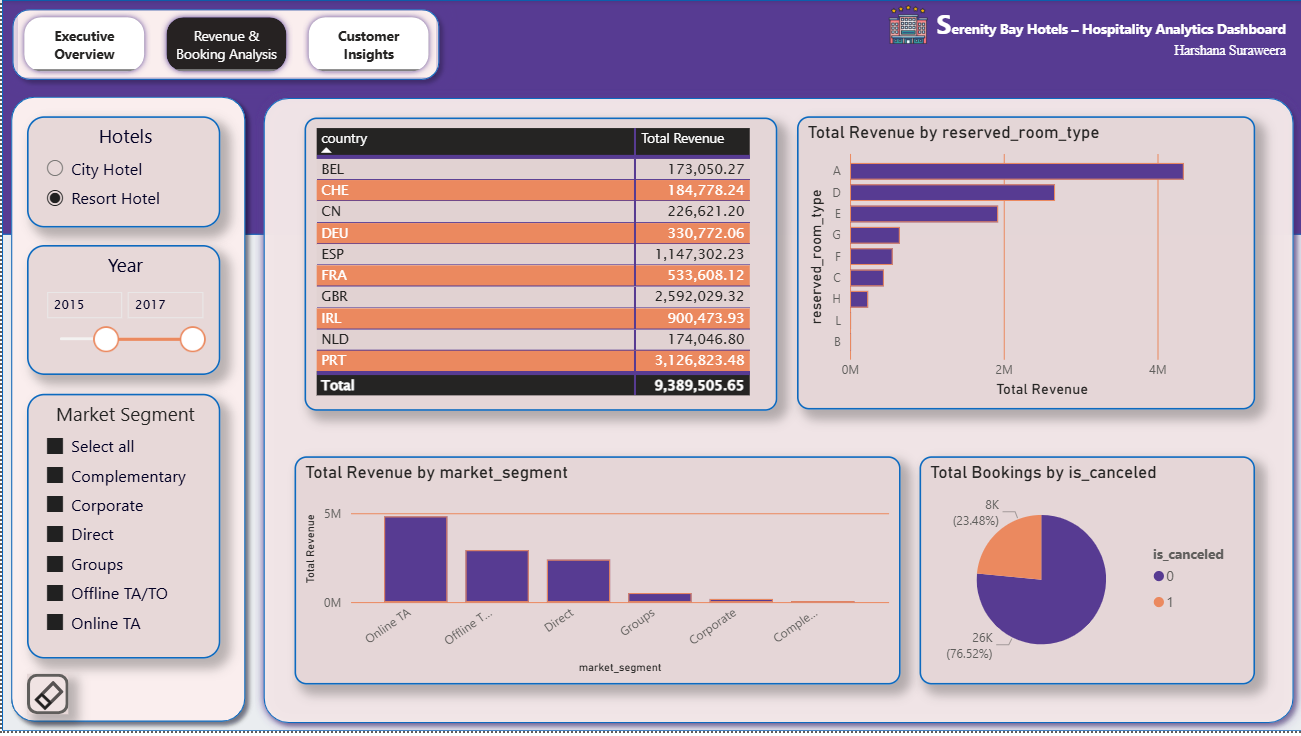

Layout of this report page (visuals, bound fields, positions):
{"tool":"powerbi","page":{"name":"Revenue & Booking Analysis","canvas":[1280,720],"ordinal":1},"visuals":[{"type":"shape","box":[0,220.5,1280,499.5],"z":0},{"type":"shape","box":[0,0,1280.3,231.1],"z":1000},{"type":"shape","box":[1.4,0,438.3,87.7],"z":2000},{"type":"shape","box":[248.2,86.8,1032.1,633.4],"z":3000},{"type":"columnChart","fields":{"Category":["hotel_bookings_cleaned.market_segment"],"Y":["mesures.Total Revenue"]},"box":[288.6,448.8,596.7,225],"z":4000},{"type":"clusteredBarChart","fields":{"Category":["hotel_bookings_cleaned.reserved_room_type"],"Y":["mesures.Total Revenue"]},"box":[782.6,114.9,451.2,288.6],"z":5000},{"type":"tableEx","fields":{"Values":["hotel_bookings_cleaned.country","mesures.Total Revenue"]},"box":[298.4,116.2,465.9,288.6],"z":6000},{"type":"pieChart","fields":{"Category":["hotel_bookings_cleaned.is_canceled"],"Y":["mesures.Total Bookings"]},"box":[903.7,448.8,330.2,225],"z":7000},{"type":"shape","box":[0,86.6,248.5,633.4],"z":8000},{"type":"slicer","title":"Hotels","fields":{"Values":["hotel_bookings_cleaned.hotel"]},"box":[24.1,114.6,190.6,109.8],"z":9000},{"type":"slicer","title":"Year","fields":{"Values":["DateTable.Year"]},"box":[24.1,241.3,190.6,127.9],"z":10000},{"type":"slicer","title":"Market Segment","fields":{"Values":["hotel_bookings_cleaned.market_segment"]},"box":[24.1,387.3,190.6,260.6],"z":11000},{"type":"actionButton","box":[24.1,663.5,41,39.8],"z":12000},{"type":"pageNavigator","box":[15.7,10.9,411.4,65.1],"z":13000},{"type":"image","box":[860,0,64,48],"z":14000},{"type":"textbox","box":[903.7,0,365.6,75.8],"z":14001}]}

Visuals, with their boxes in screenshot pixels (x1, y1, x2, y2), scaled from the page's 1280x720 canvas onto the 1301x736 screenshot:
shape: {"left": 0, "top": 225, "right": 1300, "bottom": 735}
shape: {"left": 0, "top": 0, "right": 1300, "bottom": 236}
shape: {"left": 1, "top": 0, "right": 447, "bottom": 90}
shape: {"left": 252, "top": 89, "right": 1300, "bottom": 735}
columnChart - hotel_bookings_cleaned.market_segment x mesures.Total Revenue: {"left": 293, "top": 459, "right": 900, "bottom": 689}
clusteredBarChart - hotel_bookings_cleaned.reserved_room_type x mesures.Total Revenue: {"left": 795, "top": 117, "right": 1254, "bottom": 412}
tableEx - hotel_bookings_cleaned.country x mesures.Total Revenue: {"left": 303, "top": 119, "right": 777, "bottom": 414}
pieChart - hotel_bookings_cleaned.is_canceled x mesures.Total Bookings: {"left": 919, "top": 459, "right": 1254, "bottom": 689}
shape: {"left": 0, "top": 89, "right": 253, "bottom": 735}
"Hotels" slicer: {"left": 24, "top": 117, "right": 218, "bottom": 229}
"Year" slicer: {"left": 24, "top": 247, "right": 218, "bottom": 377}
"Market Segment" slicer: {"left": 24, "top": 396, "right": 218, "bottom": 662}
actionButton: {"left": 24, "top": 678, "right": 66, "bottom": 719}
pageNavigator: {"left": 16, "top": 11, "right": 434, "bottom": 78}
image: {"left": 874, "top": 0, "right": 939, "bottom": 49}
textbox: {"left": 919, "top": 0, "right": 1290, "bottom": 77}
